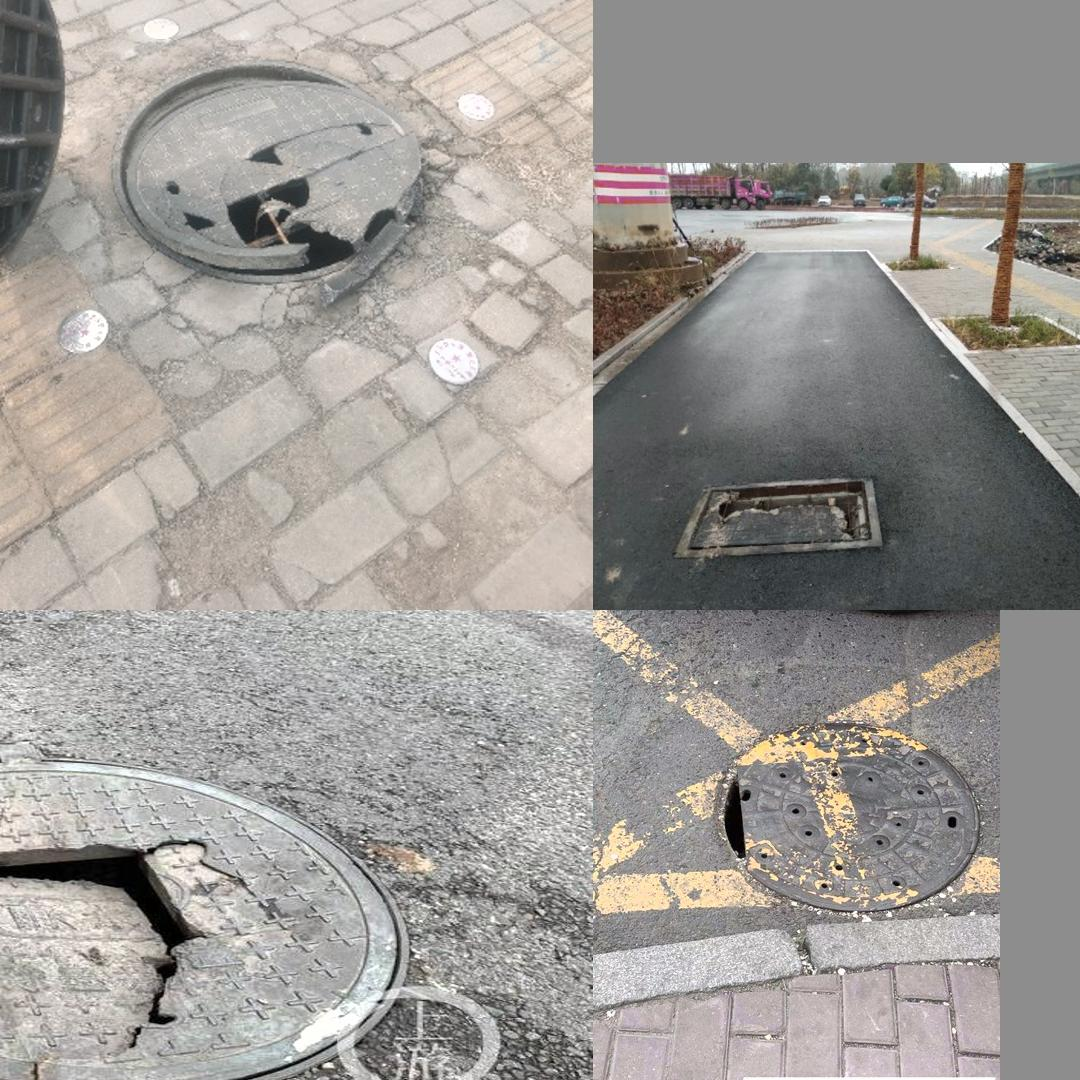broke: (0, 752, 468, 1080), (111, 58, 424, 283), (684, 709, 985, 908), (673, 475, 883, 558)
